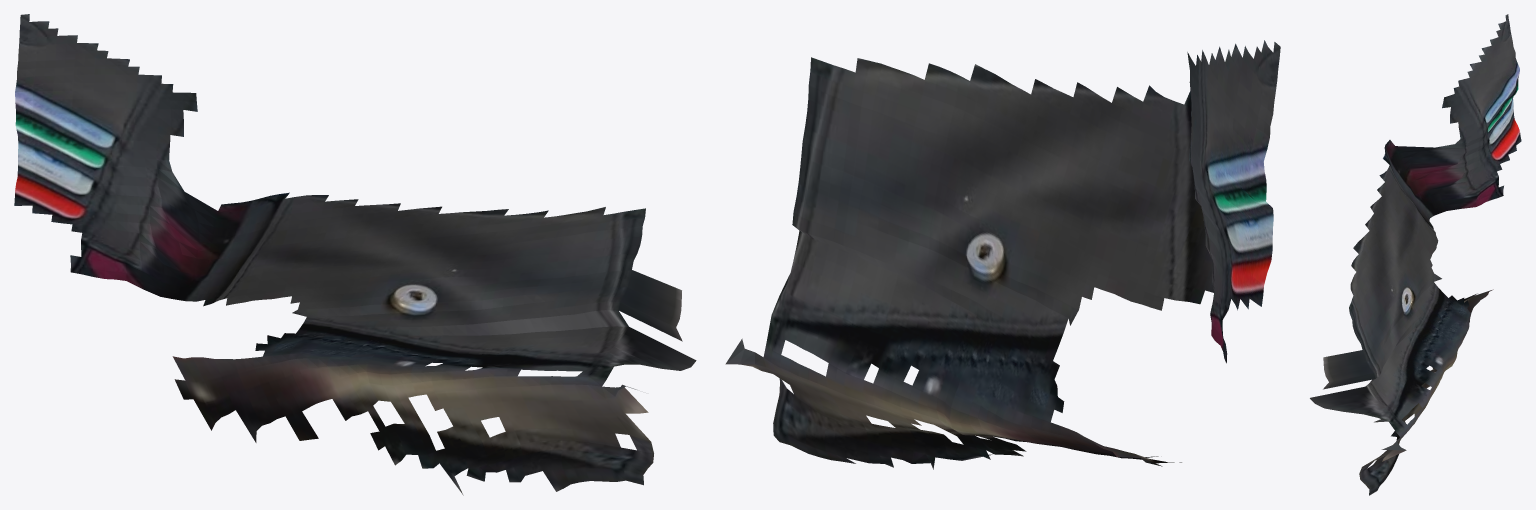
File: observed-surface.glb
The picture shows the model from 3 angles, left to right: view 1: azimuth 30°, elevation 25°; view 2: azimuth 150°, elevation 25°; view 3: azimuth 270°, elevation 25°; orthographic projection. The views are drawn at different scales.
Visible parts, largest first — view 1: geometry_0; view 2: geometry_0; view 3: geometry_0.
Boxes of the visible parts, left/top/right/bottom form: geometry_0: left=14, top=14, right=696, bottom=495; geometry_0: left=725, top=40, right=1280, bottom=469; geometry_0: left=1310, top=14, right=1521, bottom=495.
Size of the model in its own units: 0.5221 by 0.4868 by 0.2884.
Materials: 1 (1 with a texture image).
